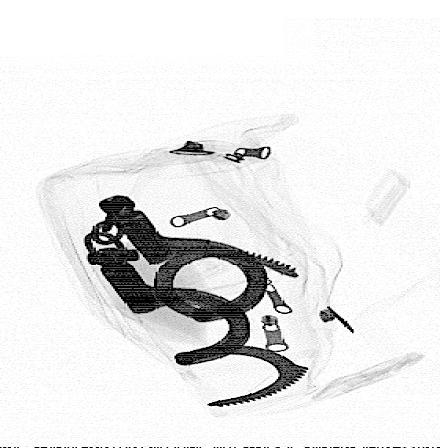HandCuffs: (78, 193, 312, 410)
